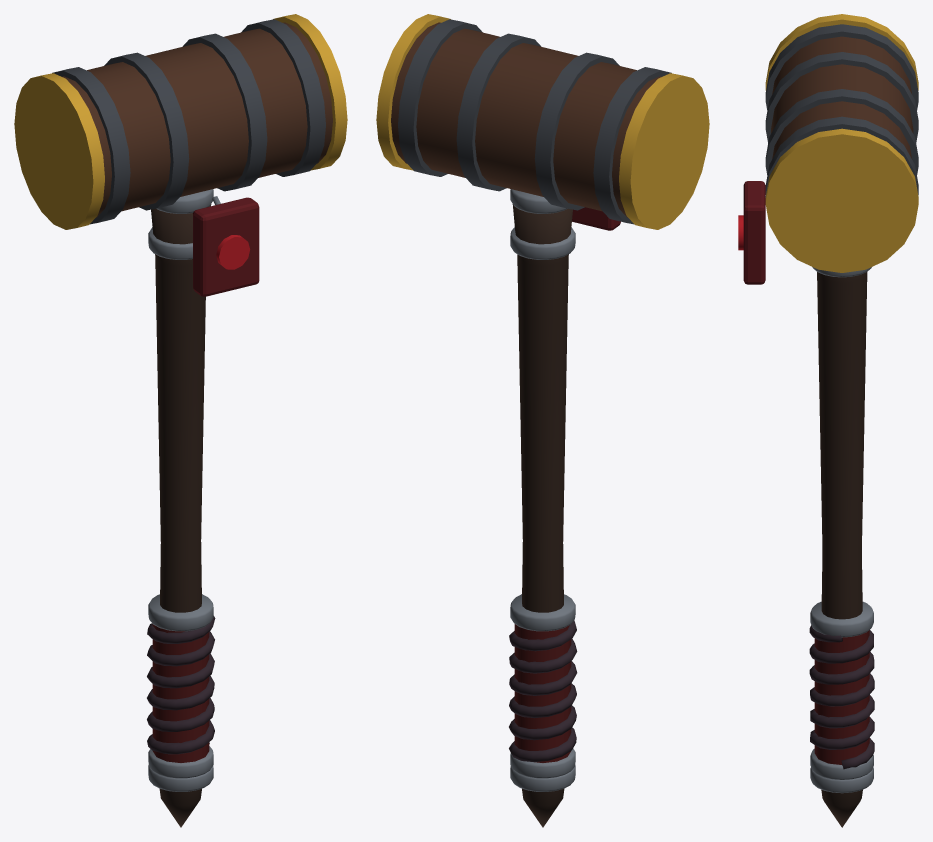
Rendered from mace_verdict.fbx.
3 views of the same model, side by side, from view 1: azimuth 30°, elevation 25°; view 2: azimuth 150°, elevation 25°; view 3: azimuth 270°, elevation 25° (orthographic). The views are drawn at different scales.
Visible parts, largest first — view 1: mace_verdict; view 2: mace_verdict; view 3: mace_verdict.
Boxes of the visible parts, left/top/right/bottom form: mace_verdict: left=14, top=14, right=347, bottom=827; mace_verdict: left=376, top=14, right=709, bottom=827; mace_verdict: left=738, top=14, right=918, bottom=827.
Bounding box in the file's own units: 0.26 × 0.76 × 0.165.
